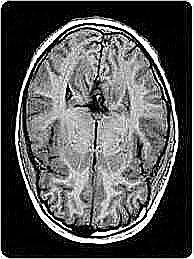Normal_Brain: (3, 1, 194, 259)
